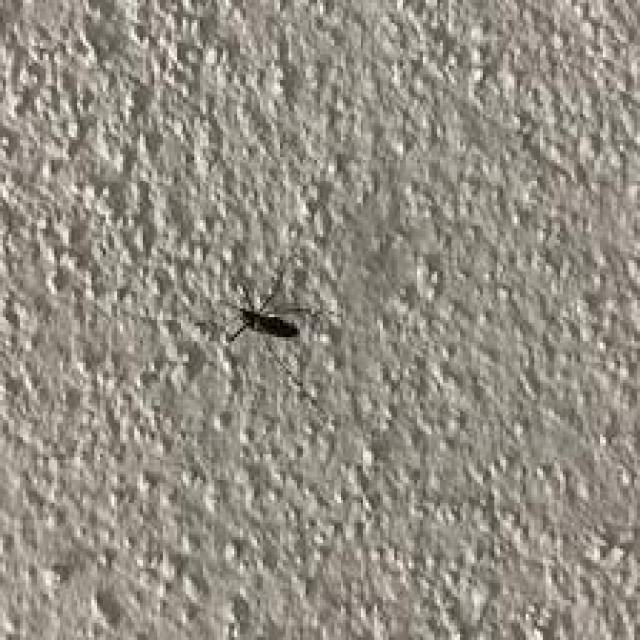Aedes albopictus: (222, 284, 327, 350)
